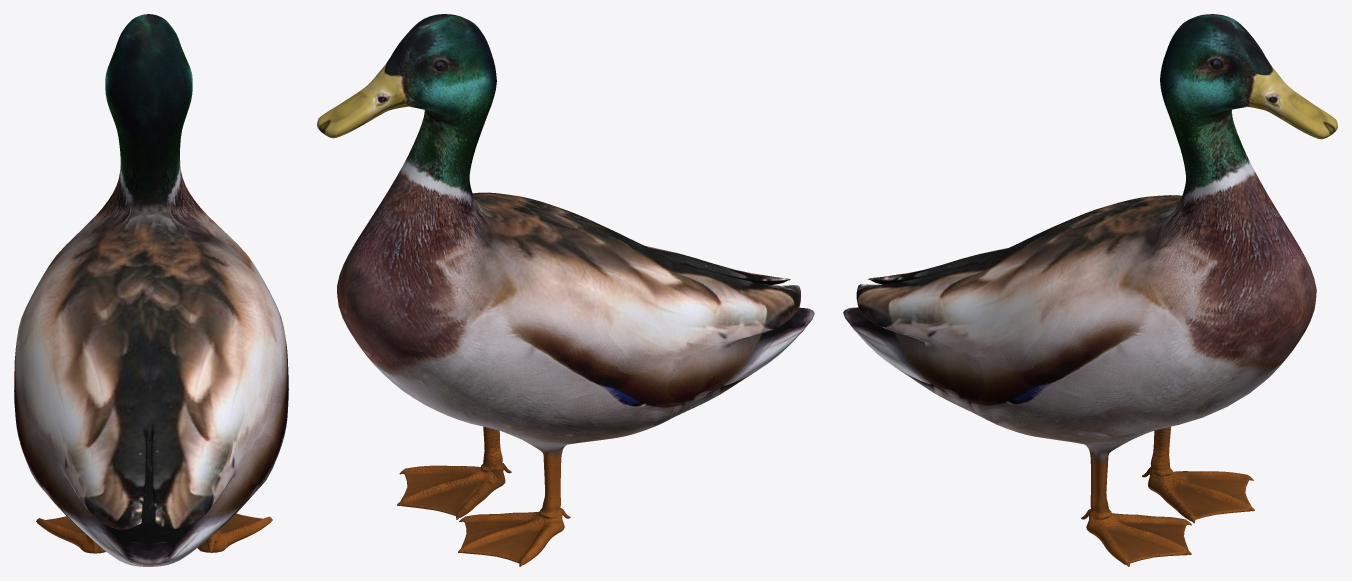
The model's file is bird2.obj.
3 views of the same model, side by side, from view 1: azimuth 30°, elevation 25°; view 2: azimuth 150°, elevation 25°; view 3: azimuth 270°, elevation 25° (orthographic). The views are drawn at different scales.
Visible parts, largest first — view 1: bird; view 2: bird; view 3: bird.
Part boxes in pixels (x1,y1,x2,y2): bird: (14, 14, 288, 566); bird: (317, 14, 814, 566); bird: (843, 14, 1337, 566).
Size of the model in its own units: 0.5224 by 0.8636 by 0.7564.
1 material, 1 textured.
